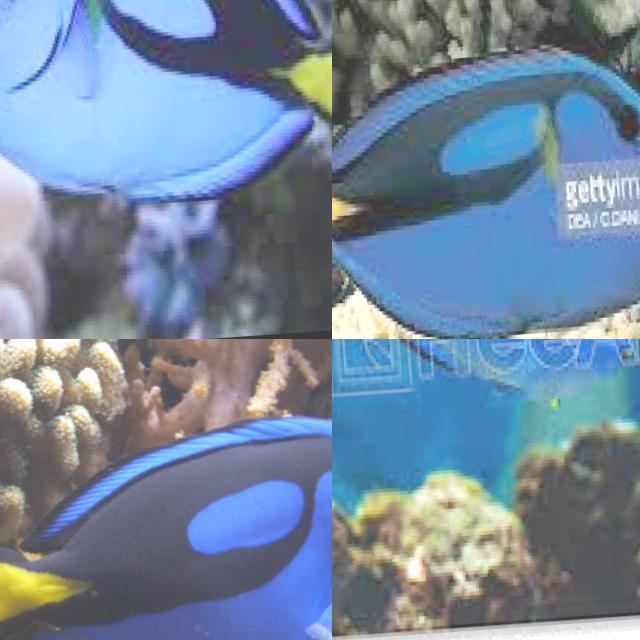BlueTang: (332, 16, 640, 339), (0, 377, 332, 640), (0, 0, 332, 258), (332, 339, 640, 484)
